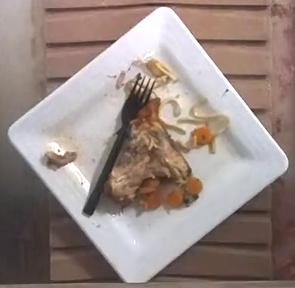carrots: (137, 176, 202, 210), (191, 126, 214, 147)
